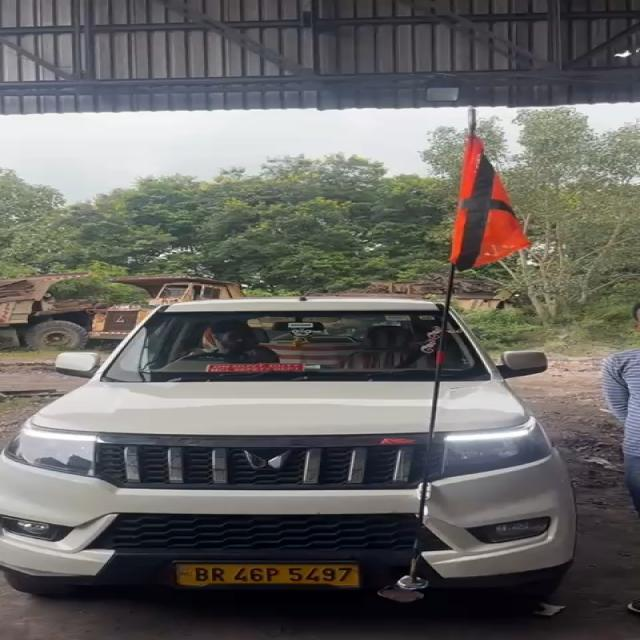light_vehicle: (4, 305, 590, 603)
